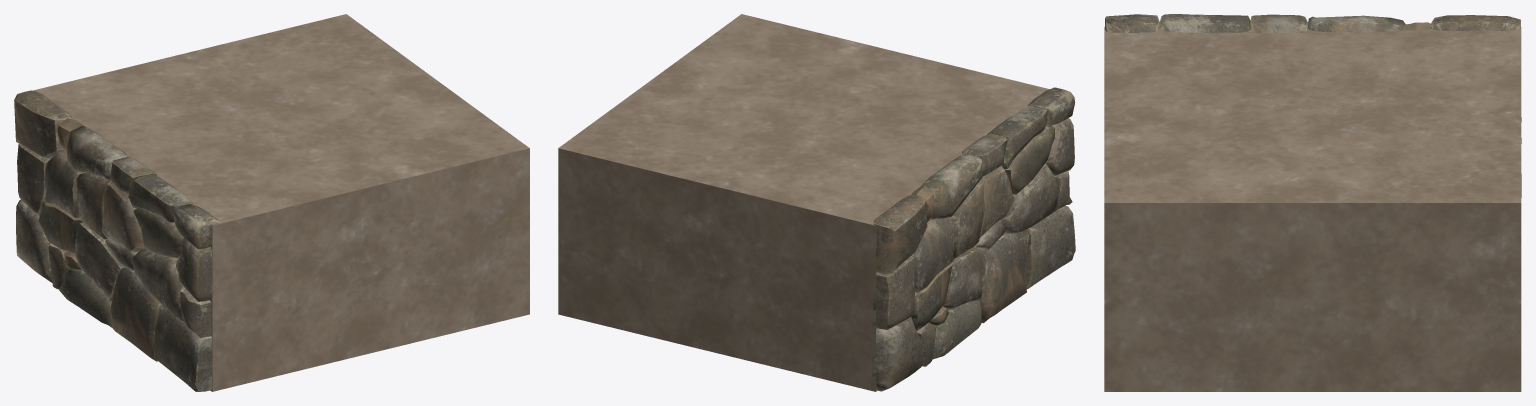
File: SM_Gidan02b.fbx
3 views of the same model, side by side, from view 1: azimuth 30°, elevation 25°; view 2: azimuth 150°, elevation 25°; view 3: azimuth 270°, elevation 25° (orthographic). The views are drawn at different scales.
Visible parts, largest first — view 1: SM_Gidan02b; view 2: SM_Gidan02b; view 3: SM_Gidan02b.
Boxes of the visible parts, <box> form: SM_Gidan02b: <box>14,14,529,391</box>; SM_Gidan02b: <box>558,14,1075,391</box>; SM_Gidan02b: <box>1104,14,1521,391</box>.
Bounding box in the file's own units: 318 × 300 × 155.
2 materials, 2 textured.
